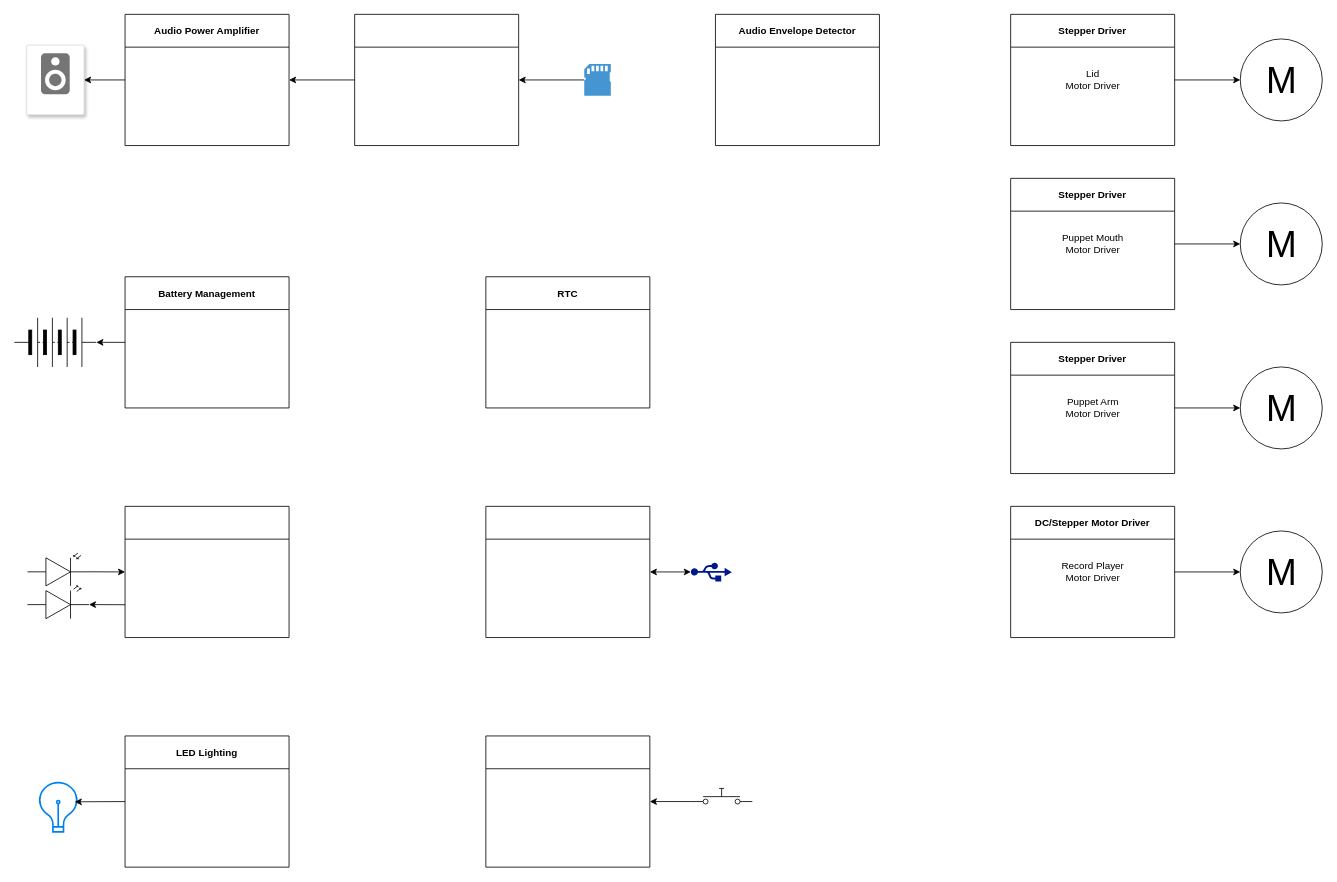
The diagram is 1337 pixels wide and 882 high, and some of its shapes have lost their labels. Each missing label, with the centre of its shape:
Audio DAC: the point at 436,80
Input Switch: the point at 567,801
Proximity Detector: the point at 206,572
Speaker: the point at 56,81
USB: the point at 567,572
